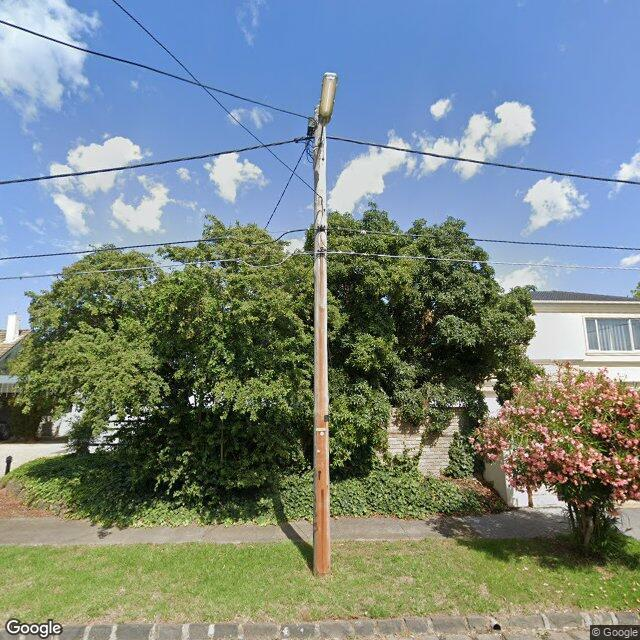streetlight: (315, 72, 338, 172)
timber-pole: (314, 104, 332, 576)
